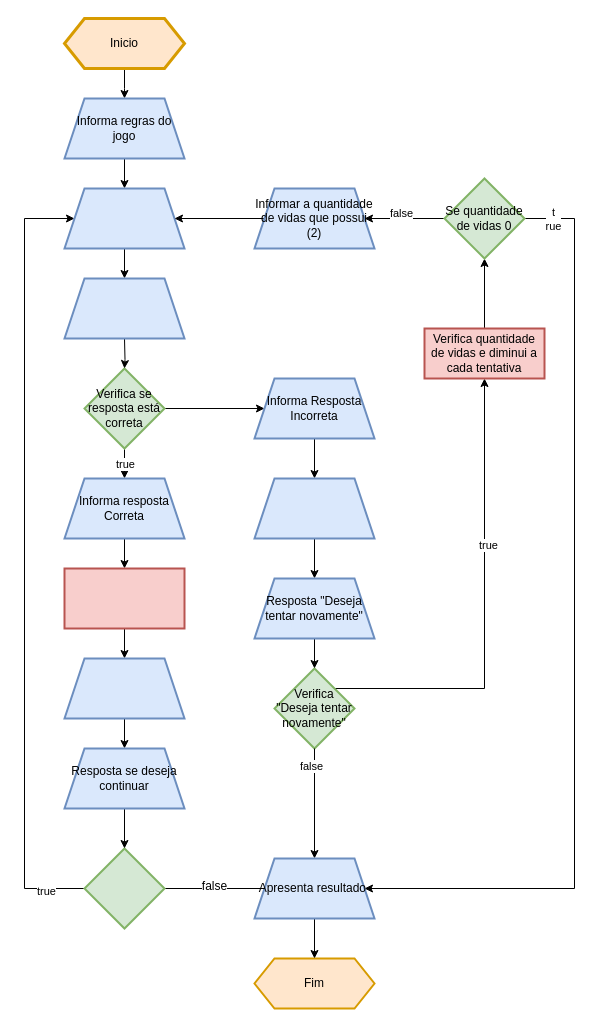
The diagram is 600 pixels wide and 1027 high, and some of its shapes have lost their labels. The shapes that lost their labels are listed below. From the top down, each one's centre as x and y in pixels, then its label:
point 124,218: Apresenta pergunta e opções de resposta
point 124,308: Informa resposta pergunta
point 314,508: Deseja tentar novamente
point 124,598: Adiciona pontos
point 124,688: Pergunta de deseja continuar
point 124,888: Verifica resposta "Deseja continuar"
